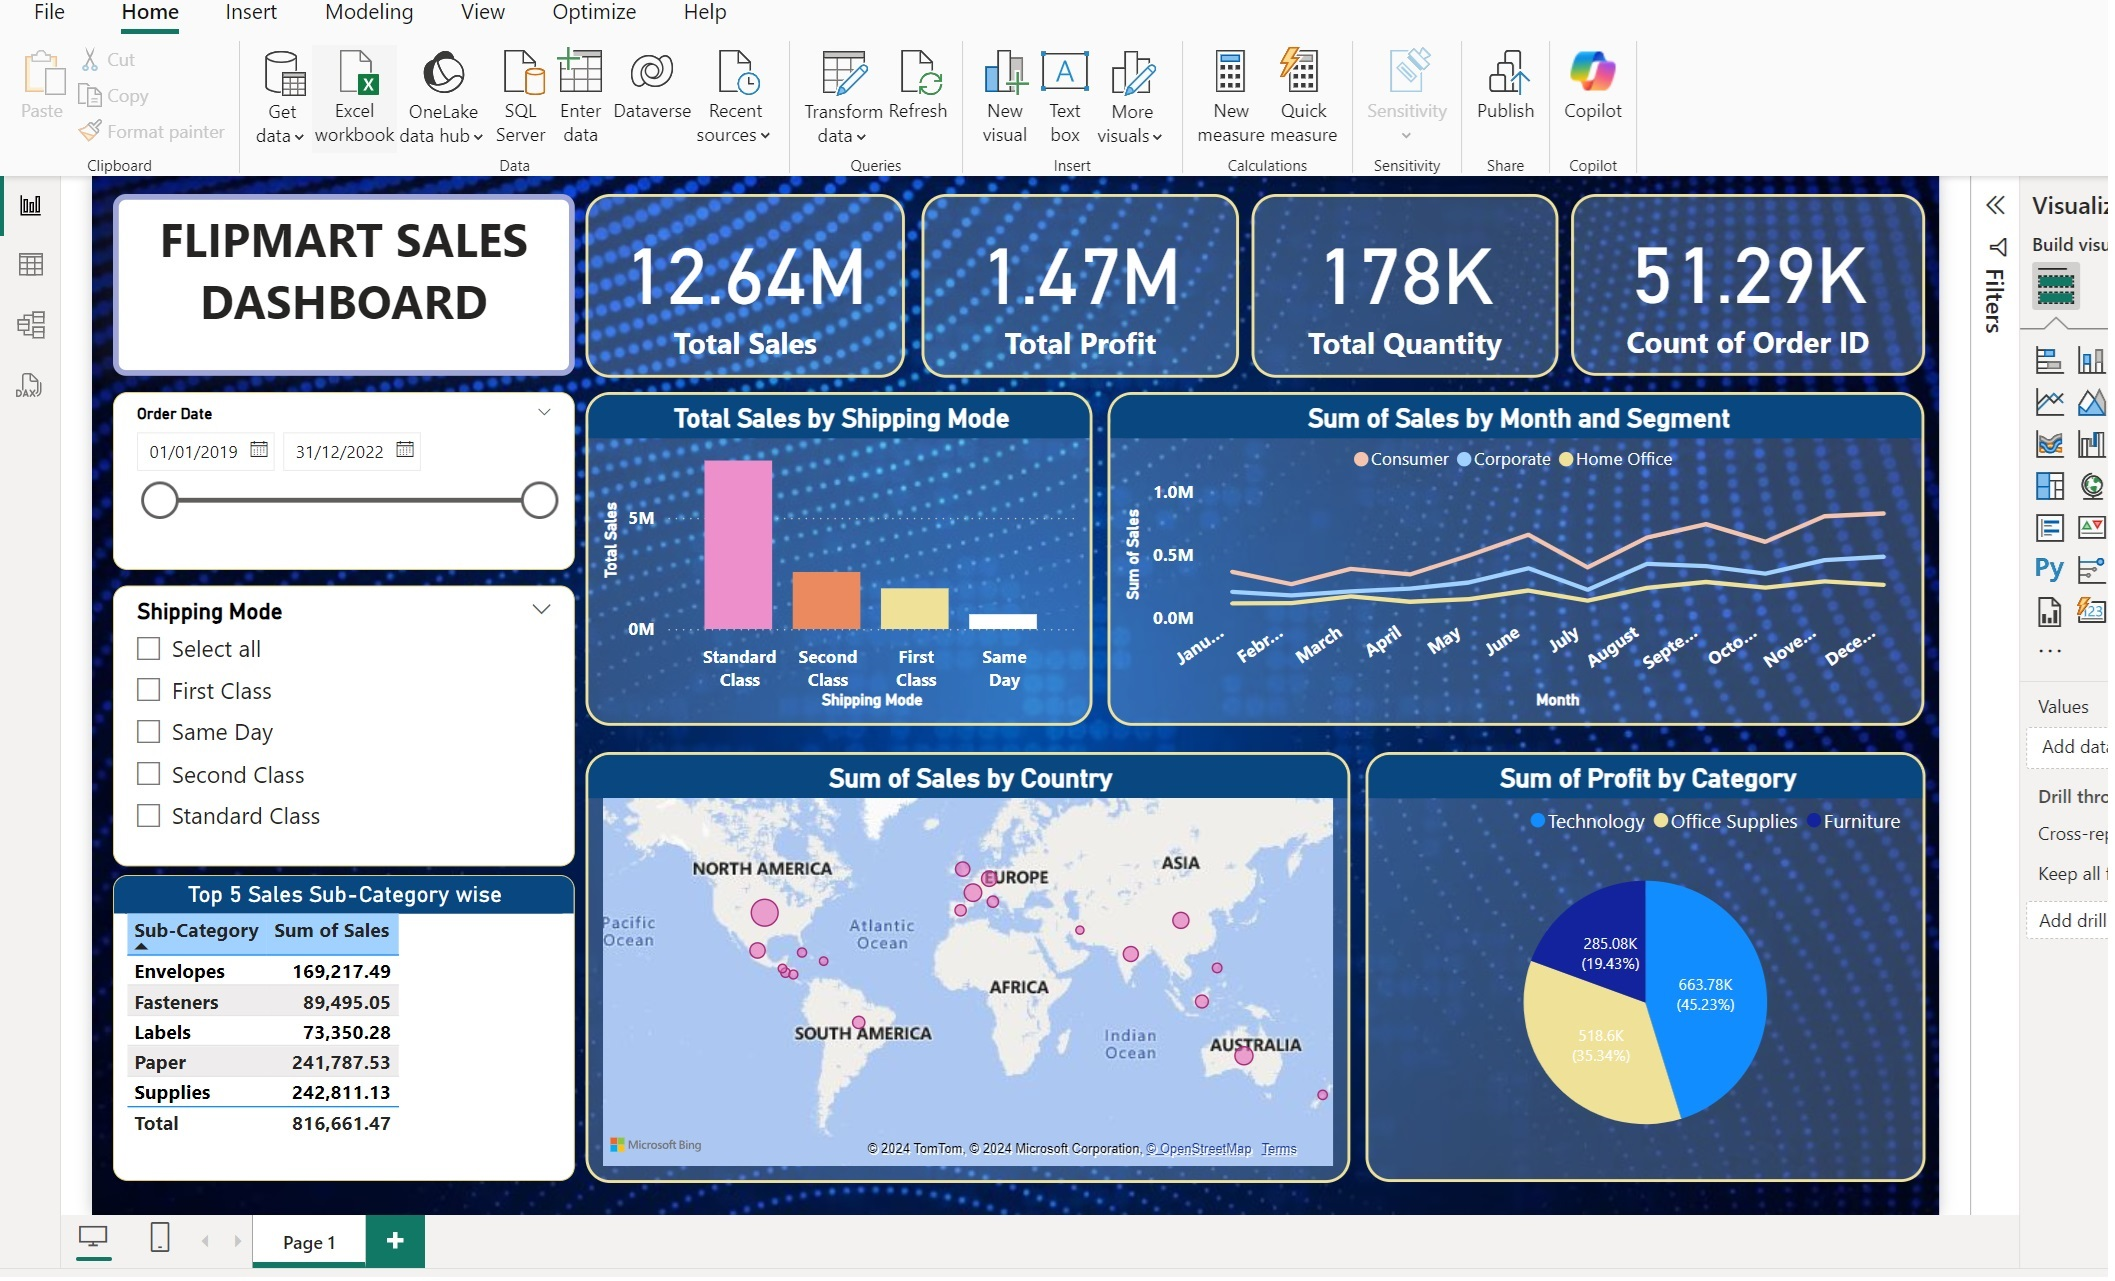

The page's visual inventory and layout, read from the dashboard file:
{"tool":"powerbi","page":{"name":"Page 1","canvas":[1280,720],"ordinal":0},"visuals":[{"type":"card","fields":{"Values":["Sum(Sales.Sales)"]},"box":[342.5,12.5,221.2,127.5],"z":0},{"type":"card","fields":{"Values":["Sum(Sales.Quantity)"]},"box":[803.8,12.5,212.5,127.5],"z":1000},{"type":"card","fields":{"Values":["Sum(Sales.Profit)"]},"box":[575,12.5,220,127.5],"z":2000},{"type":"card","fields":{"Values":["CountNonNull(Sales.Order ID)"]},"box":[1025,12.5,245,126.2],"z":3000},{"type":"clusteredColumnChart","title":"Total Sales by Shipping Mode","fields":{"Y":["Sum(Sales.Sales)"],"Category":["Sales.Shipping Mode"]},"box":[342.5,150,351.2,231.2],"z":4000},{"type":"pieChart","fields":{"Y":["Sum(Sales.Profit)"],"Category":["Sales.Category"]},"box":[882.2,398.9,387.8,297.8],"z":5000},{"type":"lineChart","fields":{"Y":["Sum(Sales.Sales)"],"Category":["Sales.Order Date.Variation.Date Hierarchy.Month"],"Series":["Sales.Segment"]},"box":[703.8,150,566.2,231.2],"z":6000},{"type":"map","fields":{"Size":["Sum(Sales.Sales)"],"Category":["Sales.Country"]},"box":[342.5,398.8,530,298.8],"z":7000},{"type":"tableEx","title":"Top 5 Sales Sub-Category wise","fields":{"Values":["Sales.Sub-Category","Sum(Sales.Sales)"]},"box":[14.4,484.4,320,212.2],"z":8000},{"type":"slicer","fields":{"Values":["Sales.Shipping Mode"]},"box":[14.4,283.3,320,194.4],"z":9000},{"type":"slicer","fields":{"Values":["Sales.Order Date"]},"box":[14.4,150,320,123.3],"z":10000},{"type":"textbox","box":[14.4,12.2,320,126],"z":11000}]}

Visuals, with their boxes on the page's 1280x720 design canvas (x1, y1, x2, y2). These are canvas units, not pixel positions in the 2115x1281 screenshot, which may show the page scaled, cropped or inside an application window:
card - Sum(Sales.Sales): region(342, 12, 564, 140)
card - Sum(Sales.Quantity): region(804, 12, 1016, 140)
card - Sum(Sales.Profit): region(575, 12, 795, 140)
card - CountNonNull(Sales.Order ID): region(1025, 12, 1270, 139)
"Total Sales by Shipping Mode" clusteredColumnChart: region(342, 150, 694, 381)
pieChart - Sum(Sales.Profit) x Sales.Category: region(882, 399, 1270, 697)
lineChart - Sum(Sales.Sales) x Sales.Order Date.Variation.Date Hierarchy.Month: region(704, 150, 1270, 381)
map - Sum(Sales.Sales) x Sales.Country: region(342, 399, 872, 698)
"Top 5 Sales Sub-Category wise" tableEx: region(14, 484, 334, 697)
slicer - Sales.Shipping Mode: region(14, 283, 334, 478)
slicer - Sales.Order Date: region(14, 150, 334, 273)
textbox: region(14, 12, 334, 138)
